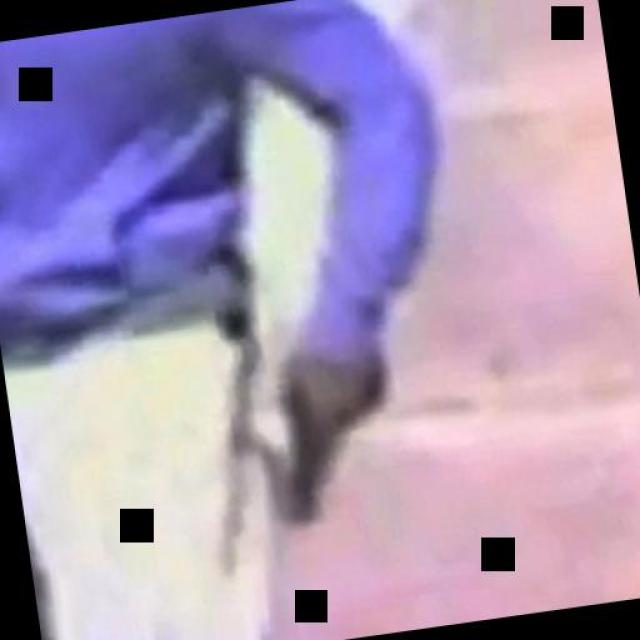gun: (249, 345, 405, 535)
